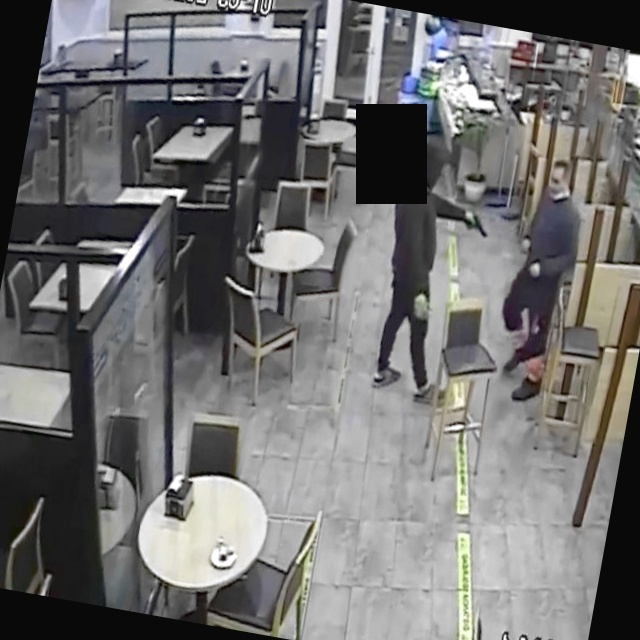gun: (458, 198, 501, 249)
